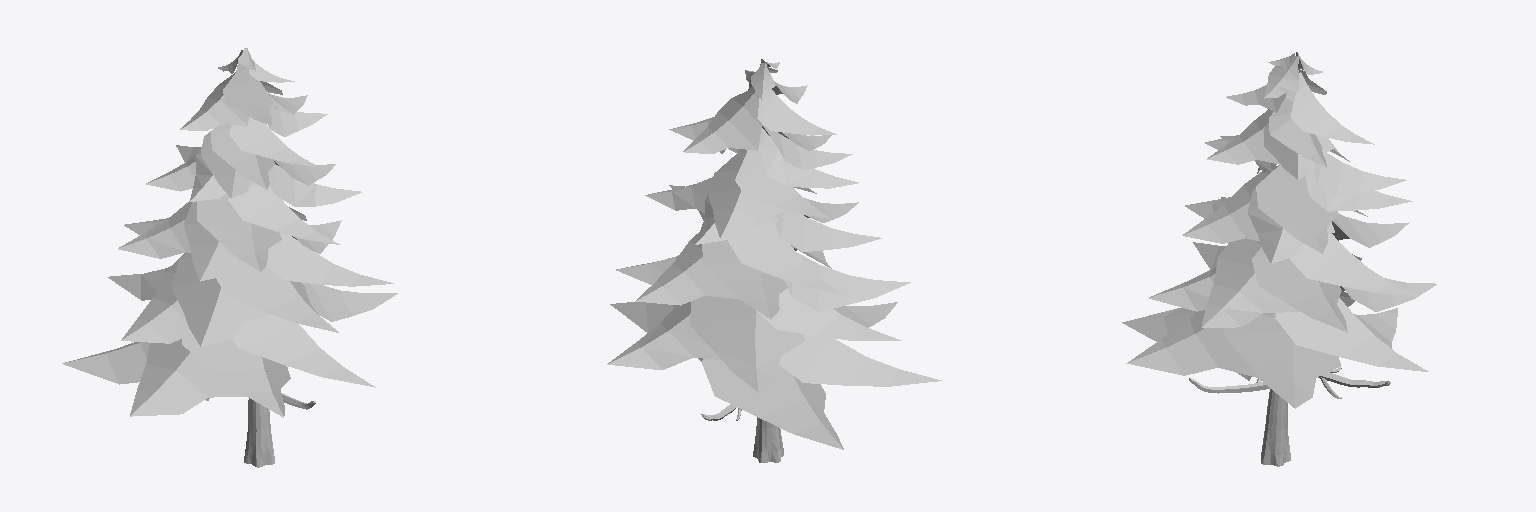
Rendered from Pine_2.obj.
3 views of the same model, side by side, from view 1: azimuth 30°, elevation 25°; view 2: azimuth 150°, elevation 25°; view 3: azimuth 270°, elevation 25° (orthographic).
Visible parts, largest first — view 1: Pine_2; view 2: Pine_2; view 3: Pine_2.
Part boxes in pixels (bbox=[...]): Pine_2: bbox=[62, 48, 397, 467]; Pine_2: bbox=[607, 59, 941, 462]; Pine_2: bbox=[1122, 52, 1436, 466].
Bounding box in the file's own units: 5.73 × 7.38 × 5.22.